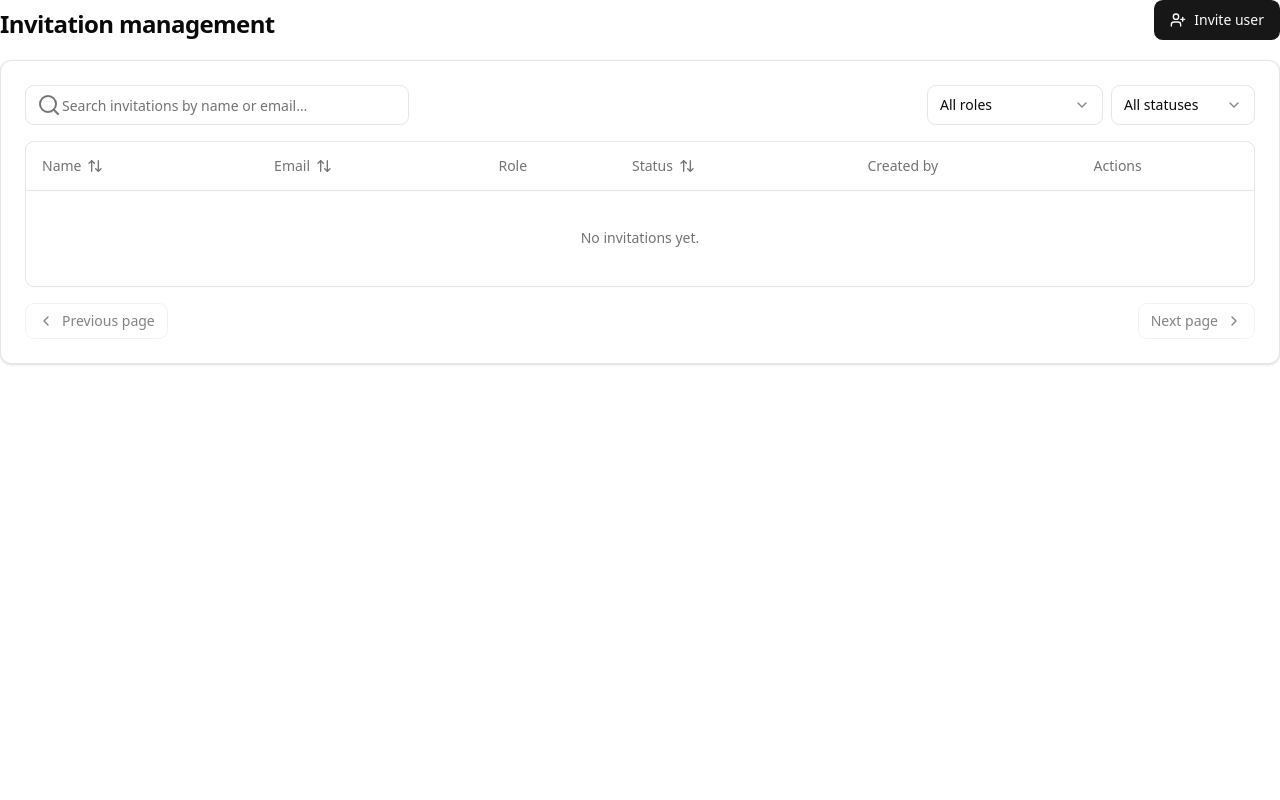
Scenario: access components › requires explicit invitation role selection instead of defaulting to Super Admin
Expected: the heading "Invitation management" is shown, [0,8,275,40]
Click the button "Invite user". click: coordinates (1217, 20)
box: [1154,0,1279,40]
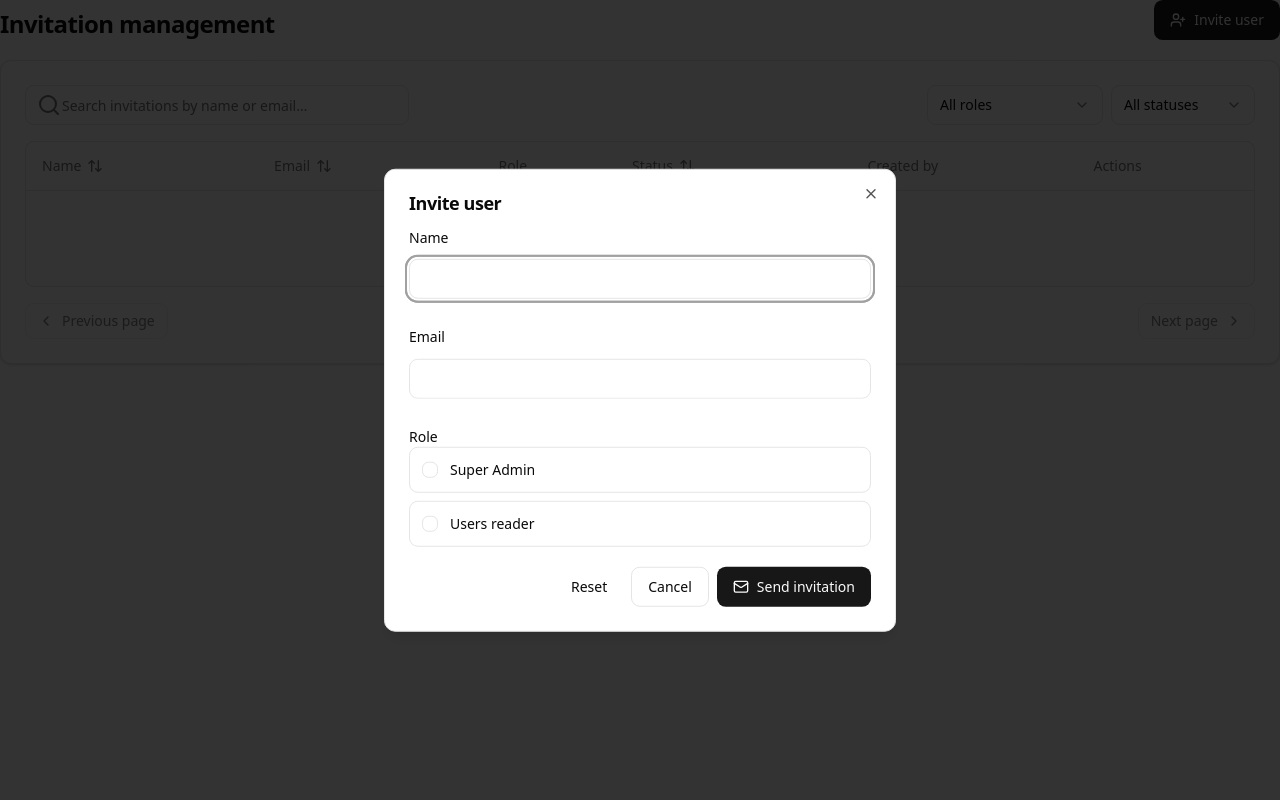
Expected: the checkbox named "Super Admin" is not checked, [422,461,438,477]
Expected: the form labelled "Name" is shown, [409,228,871,606]
